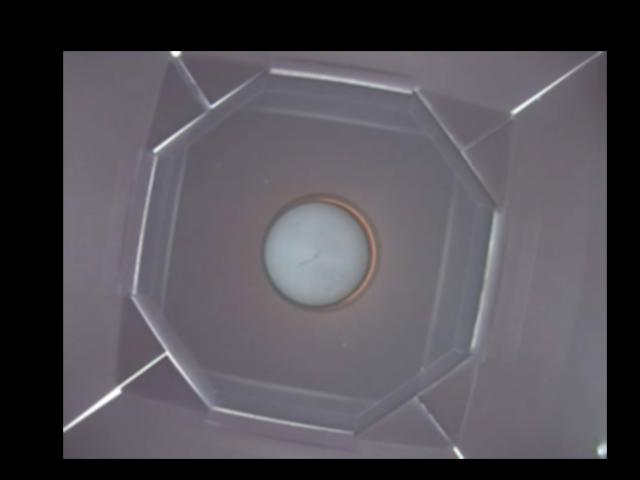Cup: (261, 191, 380, 309)
